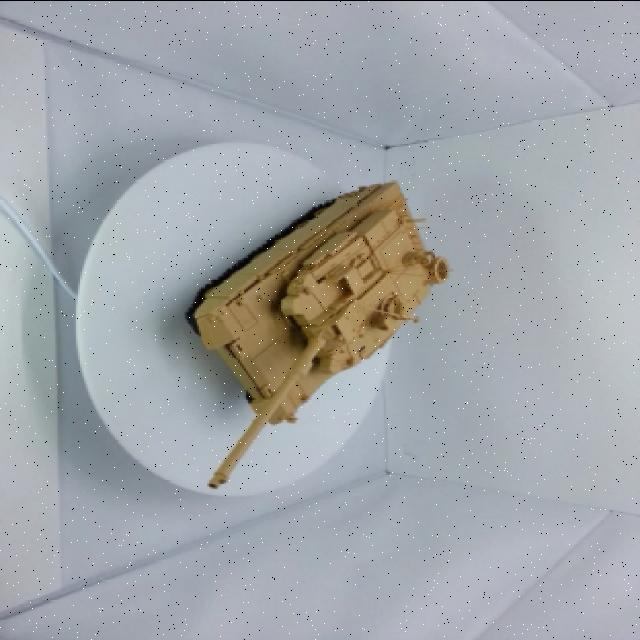korea tank: (160, 155, 470, 523)
